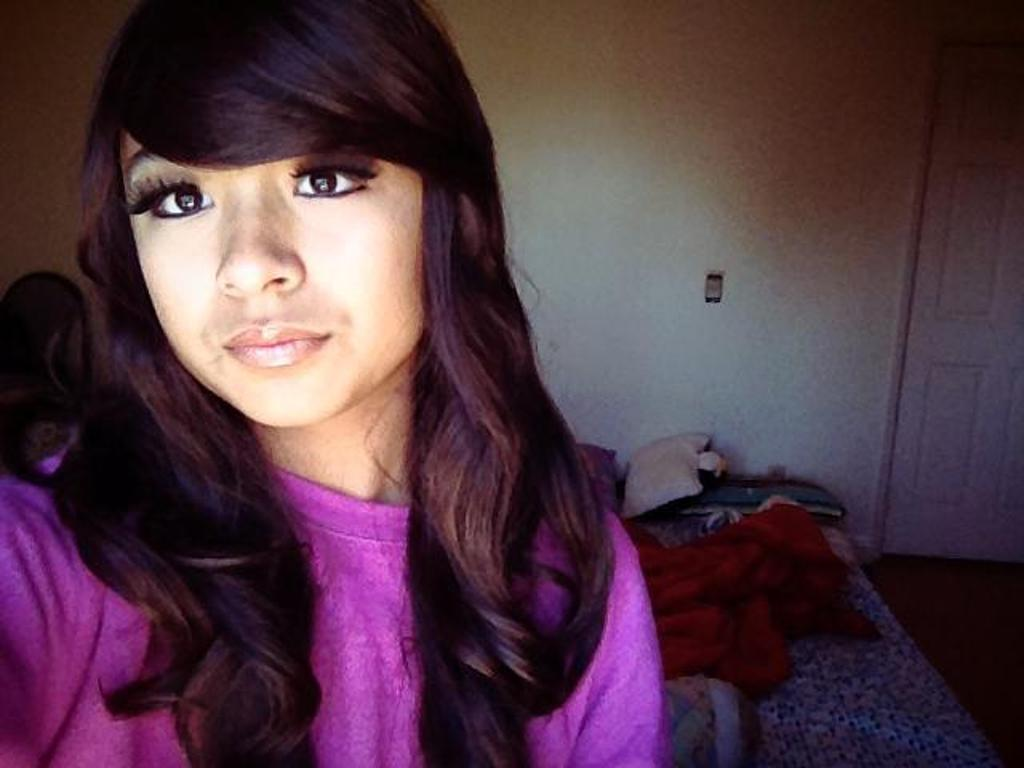face: (120, 36, 446, 426)
